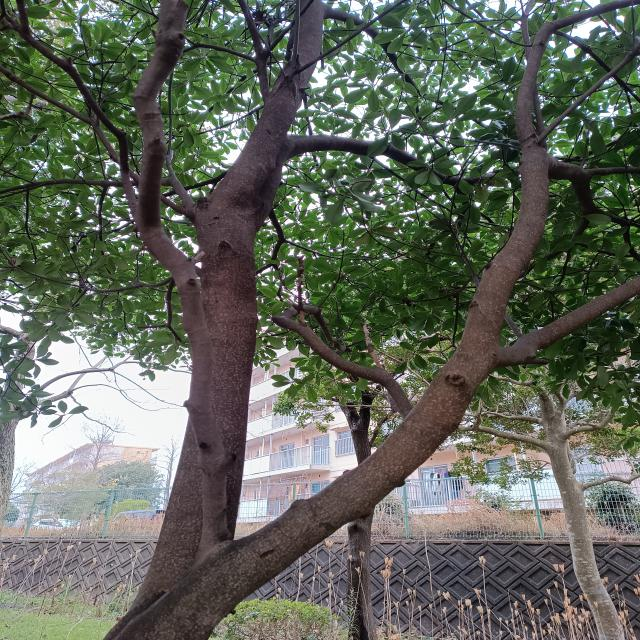Branch: (145, 0, 324, 588), (212, 344, 502, 617), (461, 22, 556, 345), (128, 0, 203, 337), (546, 157, 597, 218)
Twig: (3, 1, 140, 221), (500, 278, 639, 364), (289, 135, 481, 188), (529, 215, 588, 274), (595, 207, 640, 261), (162, 178, 198, 212), (589, 167, 640, 175)
